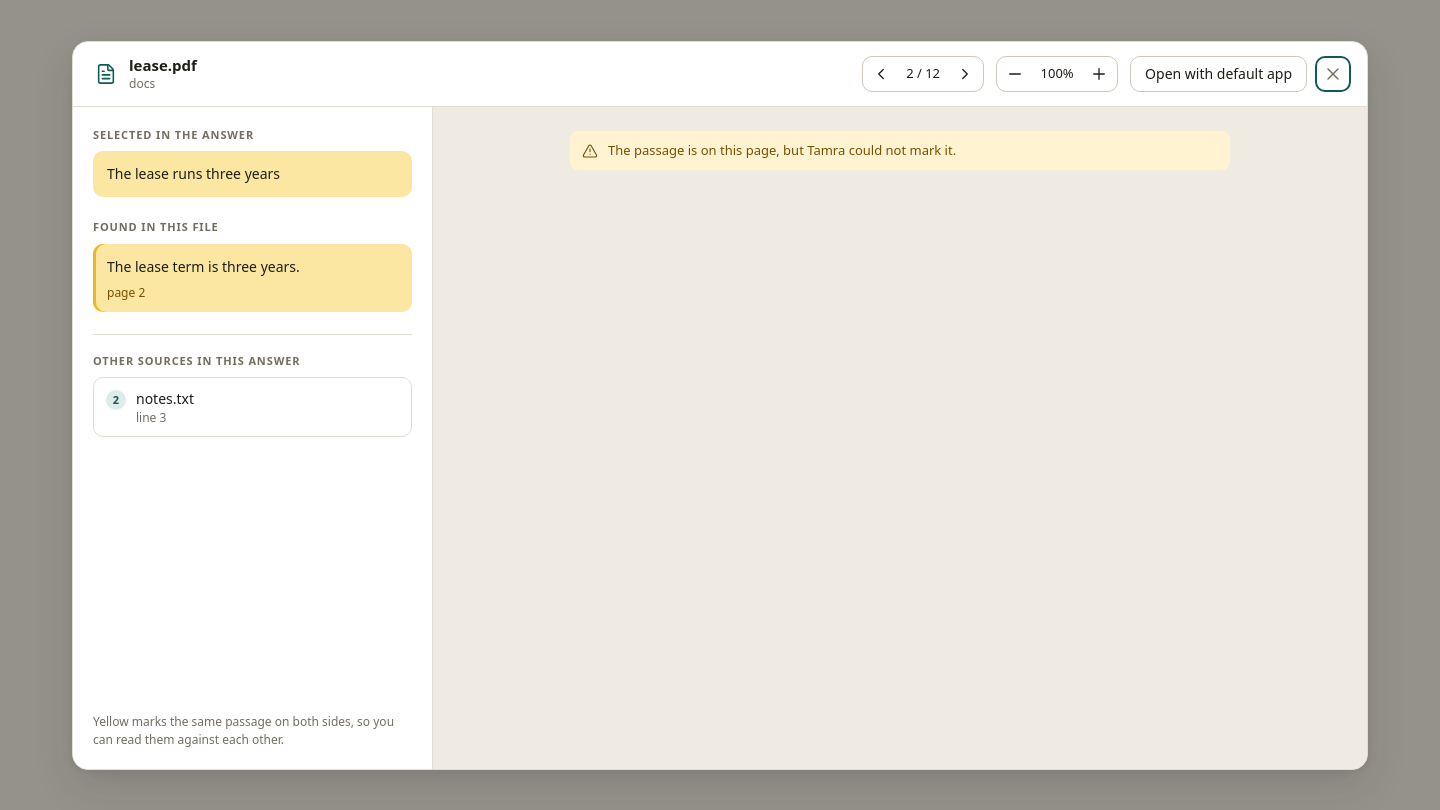
Scenario: DocumentViewer, PDF › says when the passage is on the page but has no boxes to mark it
Click the button named "Next page" at [965, 74], box [951,60,979,88]
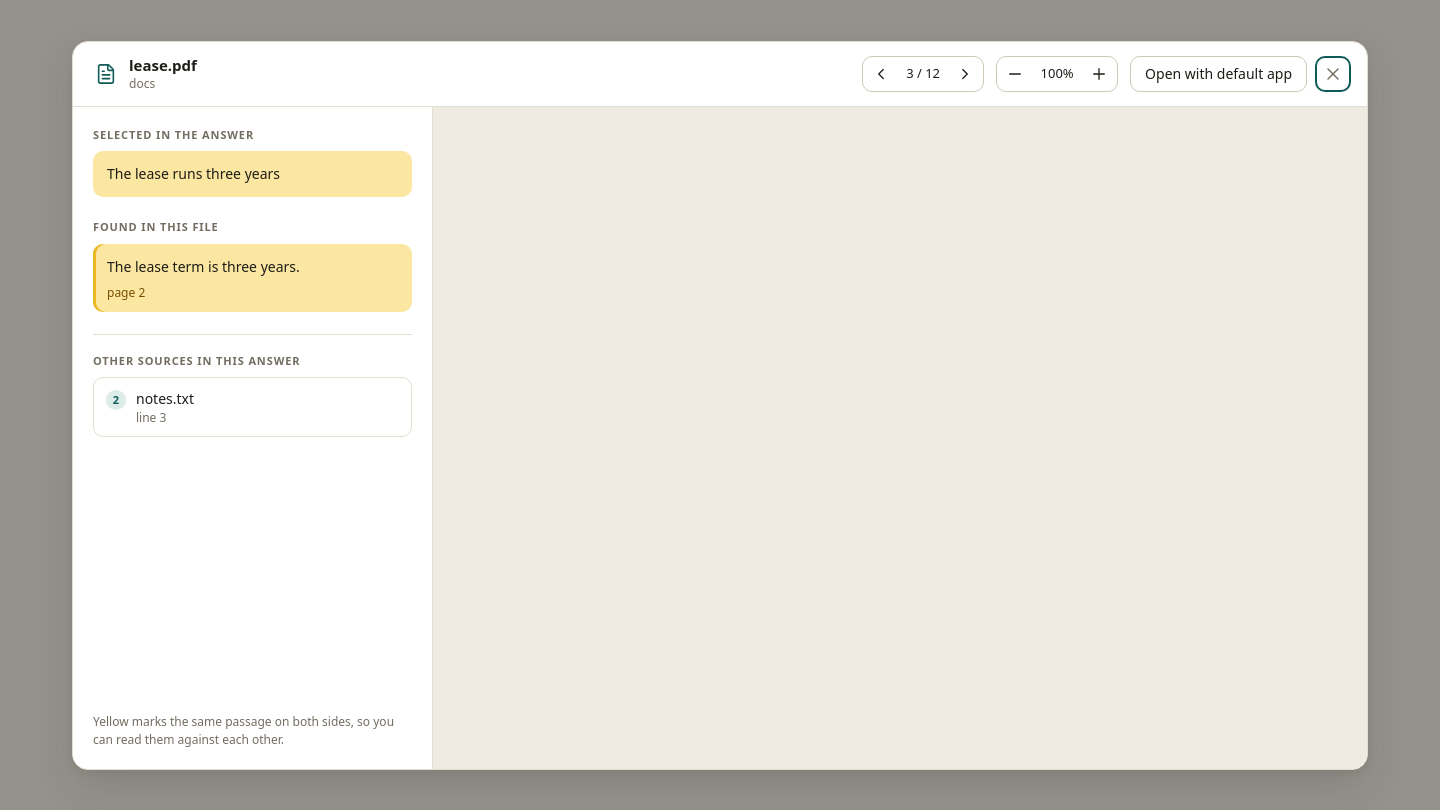
Expected: the text "The passage is on this page, but Tamra could not mark it." is gone
